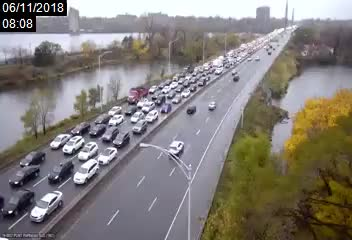congestion: (1, 130, 131, 226), (80, 98, 158, 138), (127, 82, 190, 106), (165, 66, 218, 87), (201, 57, 236, 71)
personal_car: (31, 190, 66, 223), (1, 187, 35, 217), (73, 159, 100, 185), (9, 166, 41, 187), (48, 159, 74, 184), (19, 150, 47, 169), (63, 135, 85, 154), (98, 146, 119, 165), (79, 140, 98, 161), (166, 139, 185, 158), (50, 132, 70, 150), (113, 128, 129, 148), (71, 121, 91, 136), (132, 119, 148, 135), (102, 125, 117, 142), (89, 122, 105, 137), (108, 113, 123, 128), (95, 111, 109, 126), (143, 110, 160, 122), (186, 104, 199, 116), (141, 101, 155, 112), (160, 102, 172, 114), (130, 110, 142, 122), (108, 105, 121, 116), (124, 105, 138, 115), (205, 100, 217, 111), (154, 94, 165, 105), (136, 98, 147, 107), (188, 84, 198, 93), (173, 95, 182, 105), (230, 73, 240, 81), (175, 85, 184, 93), (181, 89, 190, 97), (148, 85, 157, 93), (152, 90, 161, 98), (161, 86, 171, 93), (170, 80, 178, 88), (197, 78, 206, 85), (158, 80, 165, 89), (166, 91, 175, 98), (172, 73, 180, 80), (164, 78, 171, 86), (203, 74, 210, 81), (182, 80, 190, 86), (191, 70, 197, 77), (190, 77, 197, 83), (178, 78, 184, 84), (185, 75, 192, 80)
truck: (127, 87, 147, 104)
